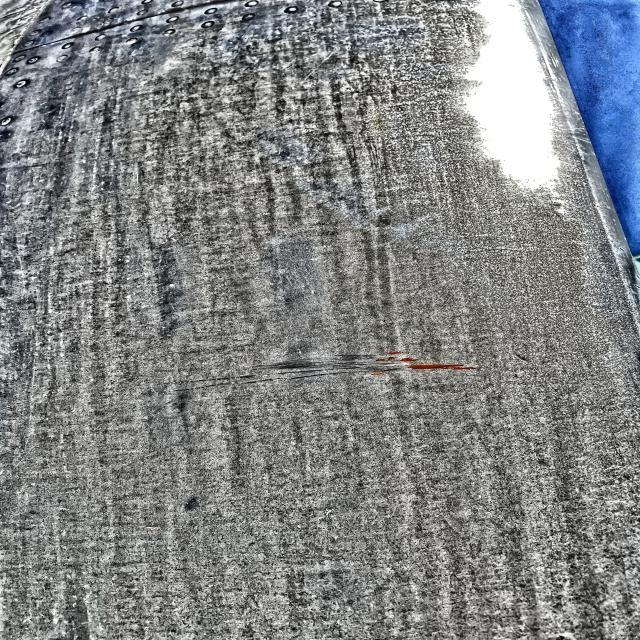crack: (137, 361, 432, 391)
